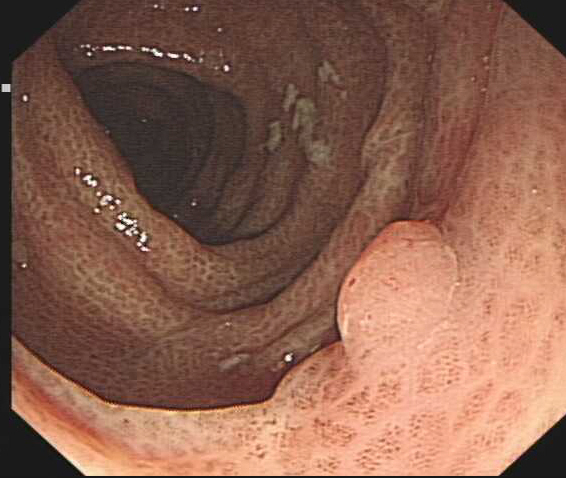others: (332, 217, 460, 379)
